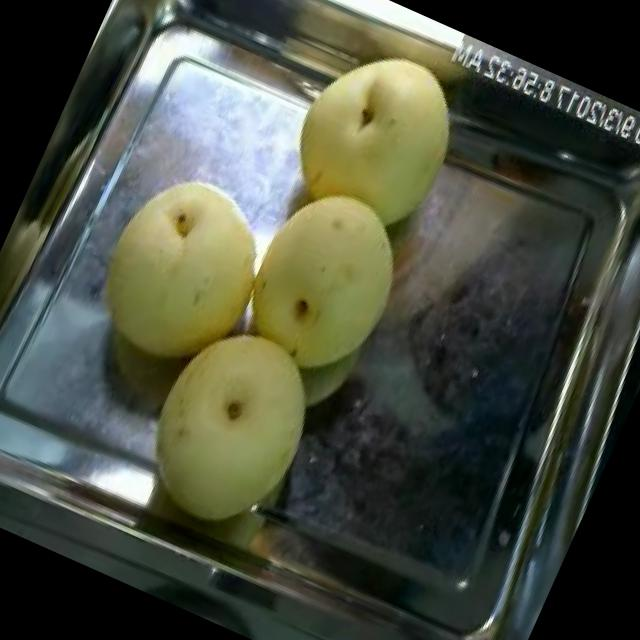Fruit: (110, 295, 348, 557), (255, 17, 492, 266), (62, 142, 292, 393), (212, 160, 436, 403)
